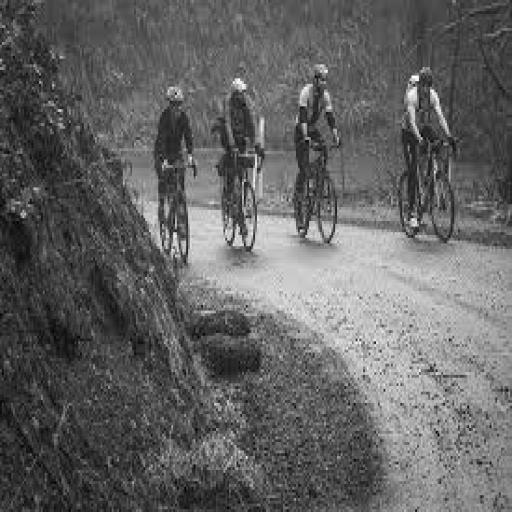cycling: (396, 62, 462, 240), (289, 59, 346, 243), (214, 73, 268, 249), (151, 81, 201, 258)
